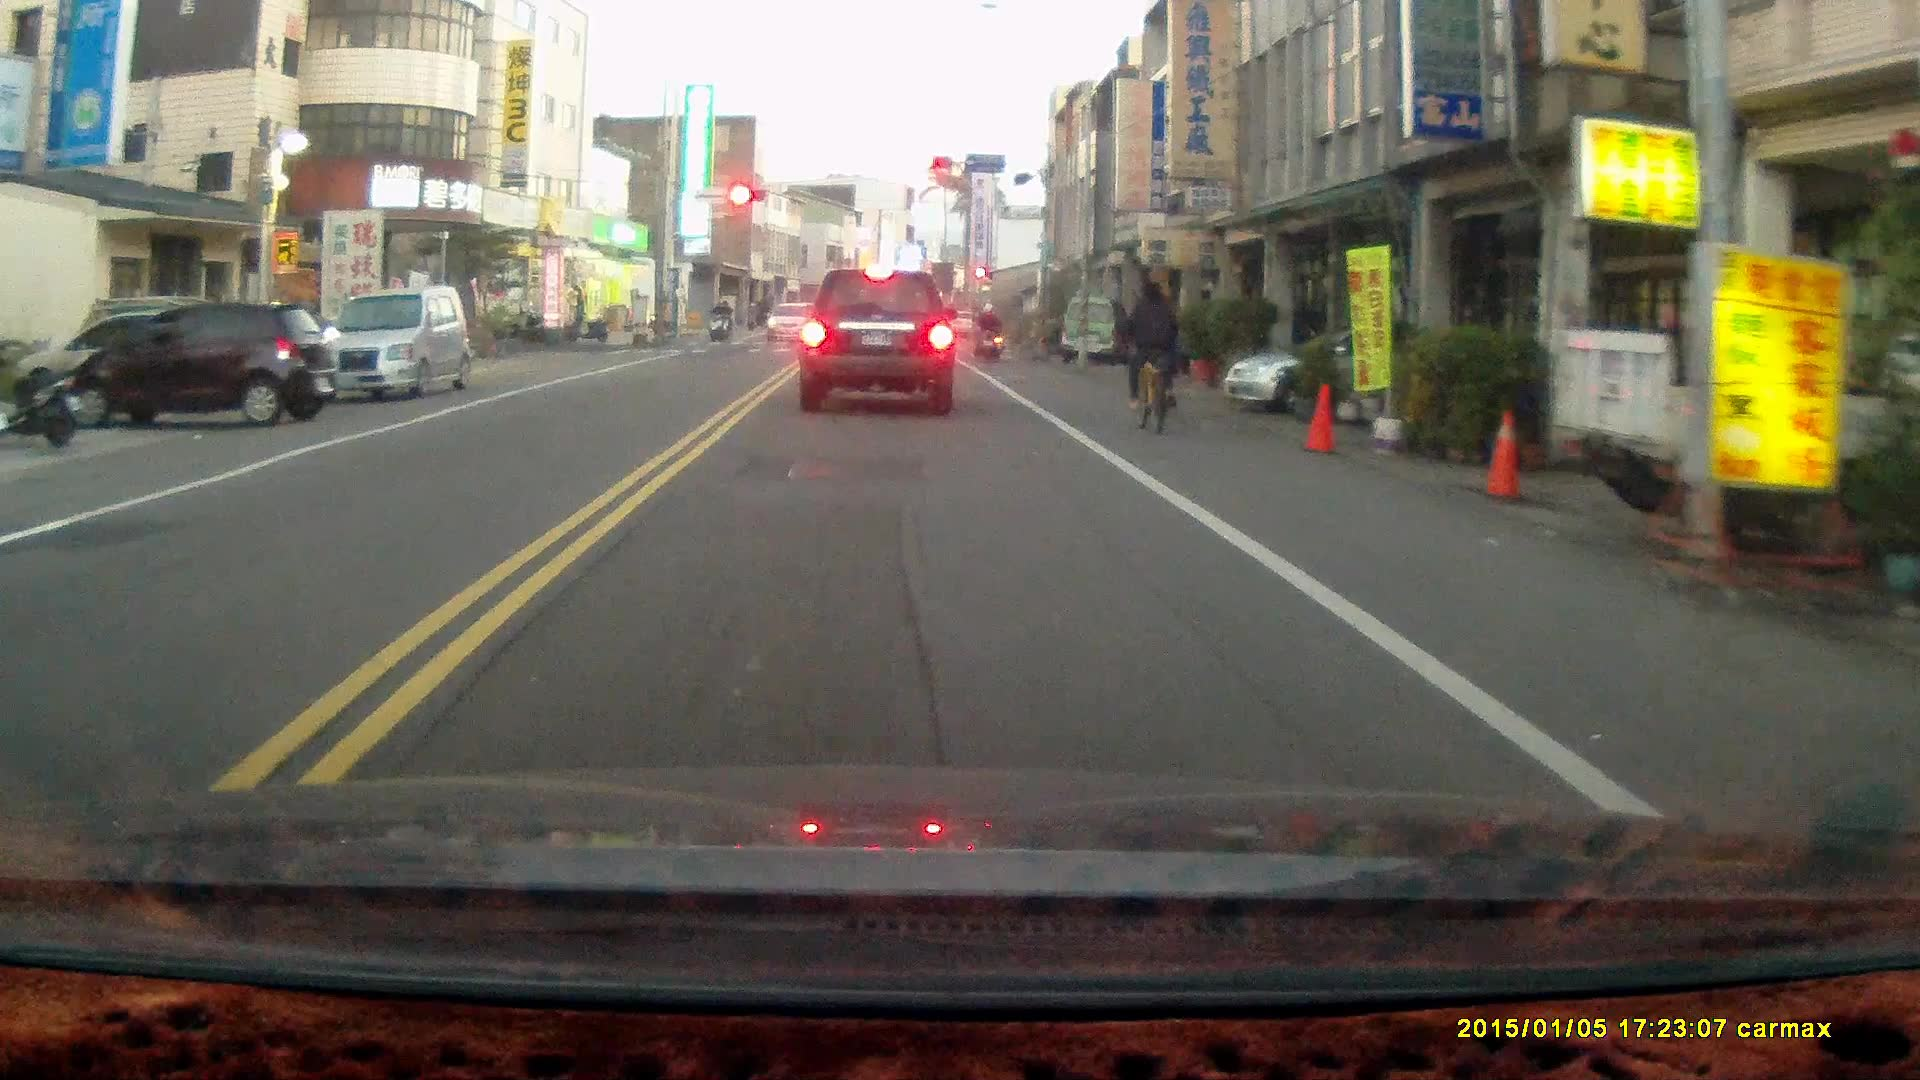rider: (1123, 276, 1177, 437), (969, 298, 1001, 363), (705, 297, 729, 344)
vehicle: (54, 297, 338, 432), (1220, 323, 1490, 419), (795, 266, 957, 417), (310, 284, 472, 405), (1060, 296, 1124, 363)
